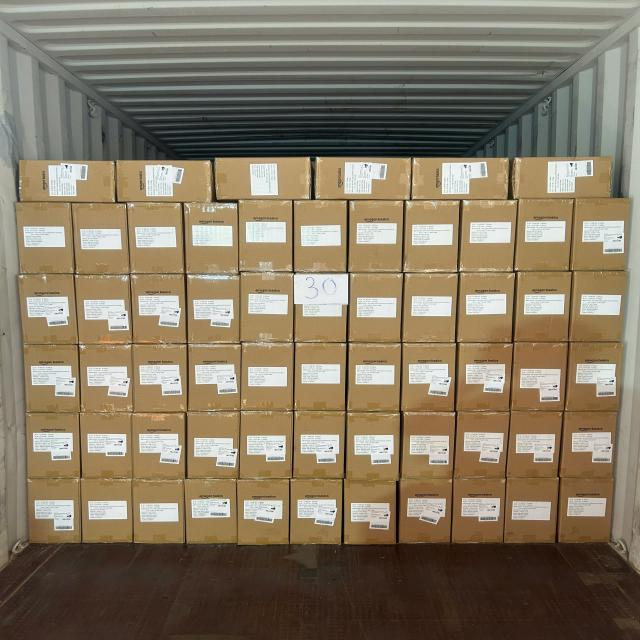Carton: (17, 199, 76, 275), (216, 158, 312, 204), (514, 156, 616, 199), (568, 272, 626, 346), (126, 200, 184, 274), (571, 198, 628, 273), (414, 160, 513, 203), (17, 276, 76, 348), (458, 273, 515, 346), (74, 276, 131, 348), (462, 199, 518, 272), (315, 160, 410, 203), (117, 163, 214, 205), (72, 204, 127, 278), (520, 199, 574, 274), (517, 272, 571, 346), (237, 198, 291, 272), (349, 198, 403, 272), (21, 159, 116, 201), (406, 200, 459, 274), (185, 202, 238, 276), (566, 340, 622, 410), (22, 344, 78, 414), (347, 274, 401, 346), (403, 274, 456, 347), (511, 340, 566, 410), (293, 200, 345, 274), (131, 276, 185, 347), (403, 342, 458, 411), (459, 341, 514, 410), (238, 272, 292, 342), (237, 410, 291, 480), (134, 342, 188, 412), (560, 408, 614, 478), (294, 274, 346, 346), (239, 342, 293, 411), (507, 408, 560, 478), (346, 341, 399, 411), (292, 476, 345, 546), (346, 410, 399, 480), (78, 342, 131, 411), (188, 344, 241, 413), (457, 409, 510, 478), (79, 410, 131, 480), (402, 409, 454, 479), (559, 476, 613, 543), (28, 477, 82, 544), (400, 476, 453, 544), (133, 411, 186, 479), (186, 274, 238, 343), (188, 409, 240, 478), (27, 412, 80, 479), (186, 478, 239, 545), (342, 482, 395, 548), (504, 477, 556, 544), (455, 477, 507, 544), (236, 477, 287, 545), (294, 341, 344, 410), (293, 410, 343, 479), (83, 478, 135, 544), (133, 478, 184, 545)
